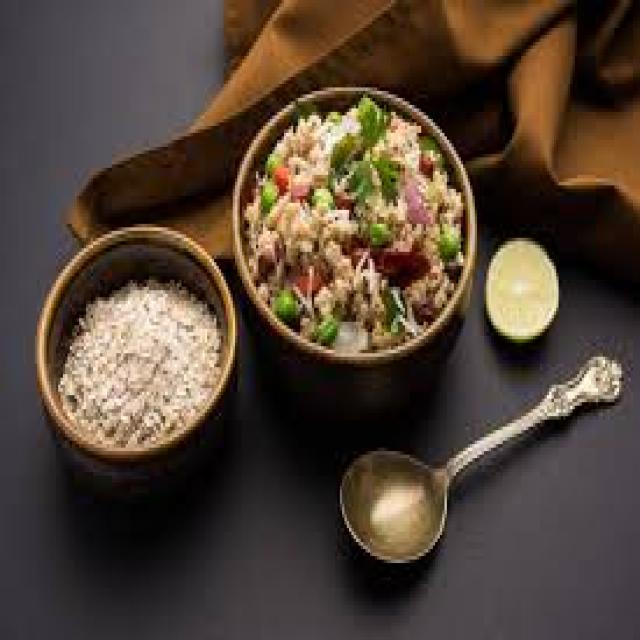UPMA: (240, 101, 461, 343)
